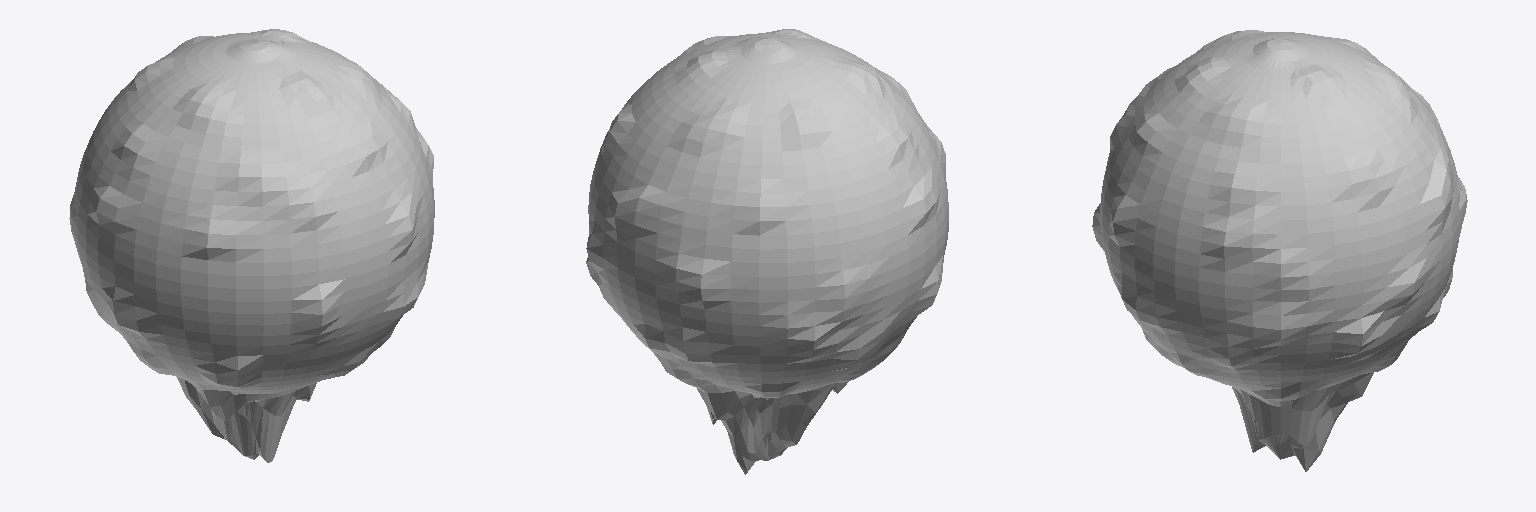
The model's file is woogie2.obj.
3 views of the same model, side by side, from view 1: azimuth 30°, elevation 25°; view 2: azimuth 150°, elevation 25°; view 3: azimuth 270°, elevation 25° (orthographic).
Visible parts, largest first — view 1: pSphere1; view 2: pSphere1; view 3: pSphere1.
Boxes of the visible parts, <box> form: pSphere1: <box>69,29,434,462</box>; pSphere1: <box>586,29,948,474</box>; pSphere1: <box>1092,30,1467,471</box>.
Bounding box in the file's own units: 12.03 × 15.27 × 12.25.